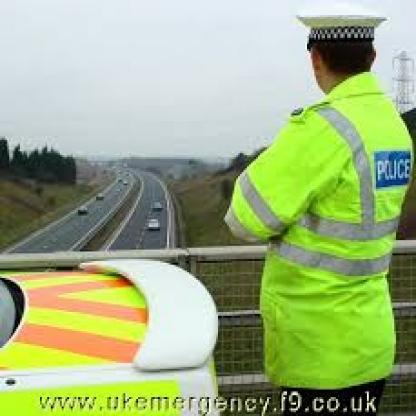car: (147, 194, 164, 222), (146, 214, 164, 237), (76, 203, 91, 218), (92, 188, 104, 202)
